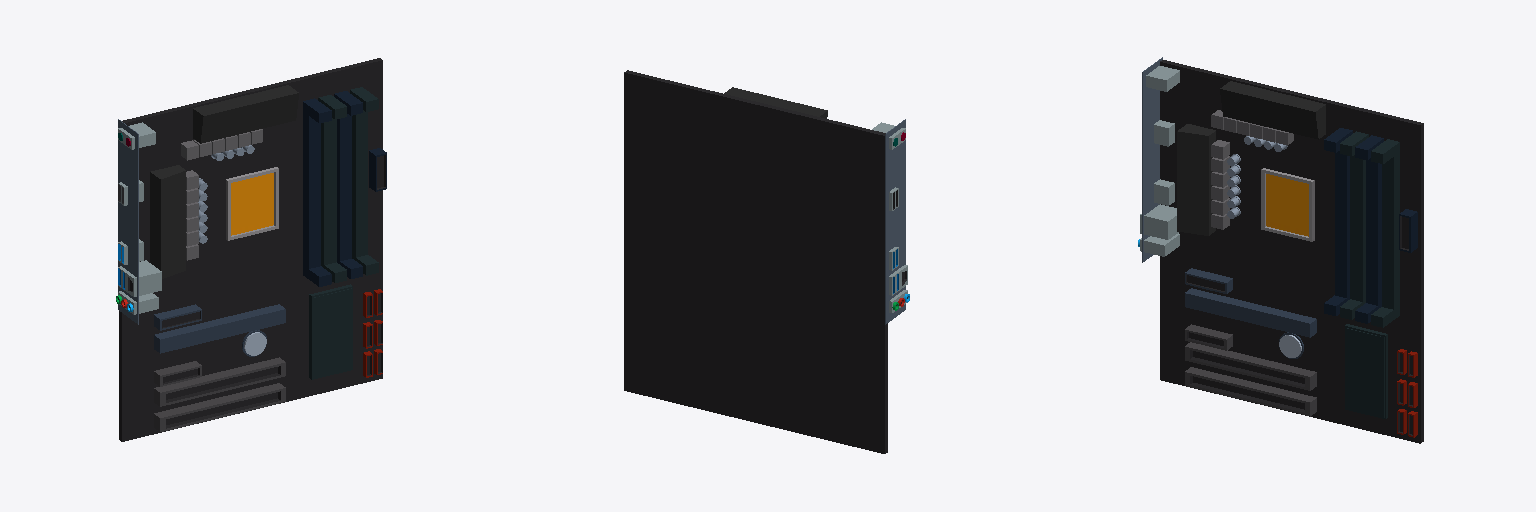
3 renders of one model, left to right at view 1: azimuth 30°, elevation 25°; view 2: azimuth 150°, elevation 25°; view 3: azimuth 330°, elevation 25°, orthographic.
Parts seen in each view (by area): view 1: MB_Cylinder.070; view 2: MB_Cylinder.070; view 3: MB_Cylinder.070.
Boxes of the visible parts, <box> form: MB_Cylinder.070: <box>116,58,386,441</box>; MB_Cylinder.070: <box>624,70,909,453</box>; MB_Cylinder.070: <box>1138,57,1423,443</box>.
Bounding box in the file's own units: 6.15 × 7.04 × 0.8089.
2 materials, 1 textured.